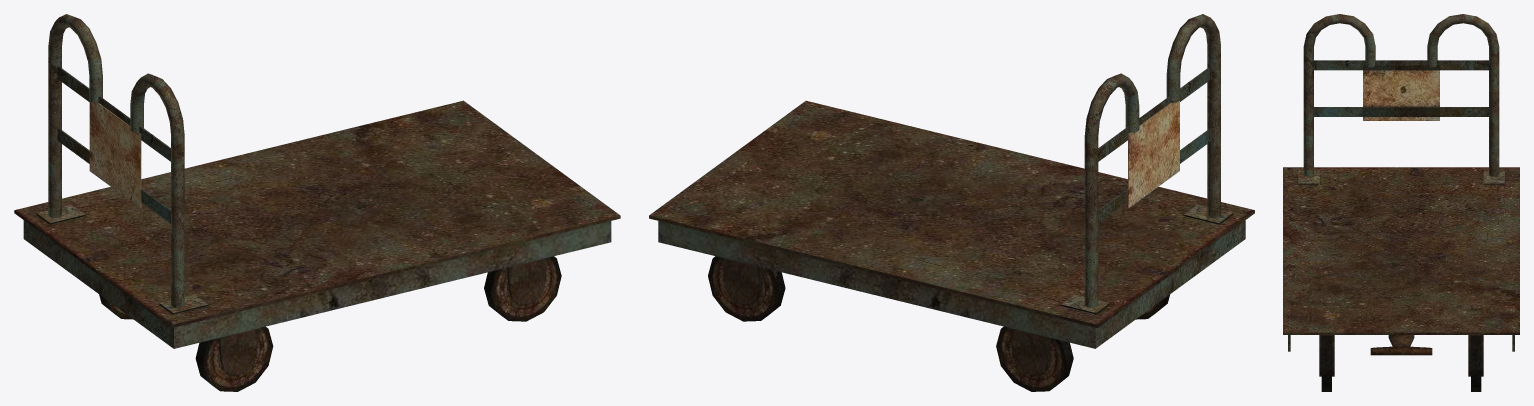
The model's file is pushcart.glb.
3 views of the same model, side by side, from view 1: azimuth 30°, elevation 25°; view 2: azimuth 150°, elevation 25°; view 3: azimuth 270°, elevation 25° (orthographic). The views are drawn at different scales.
Visible parts, largest first — view 1: 0_PushCart01a; view 2: 0_PushCart01a; view 3: 0_PushCart01a.
Part boxes in pixels (box(x1,y1,x2,y2)): 0_PushCart01a: box(14, 14, 620, 391); 0_PushCart01a: box(649, 14, 1254, 391); 0_PushCart01a: box(1283, 14, 1519, 391).
Bounding box in the file's own units: 1.97 × 1.33 × 1.17.
1 material, 1 textured.
